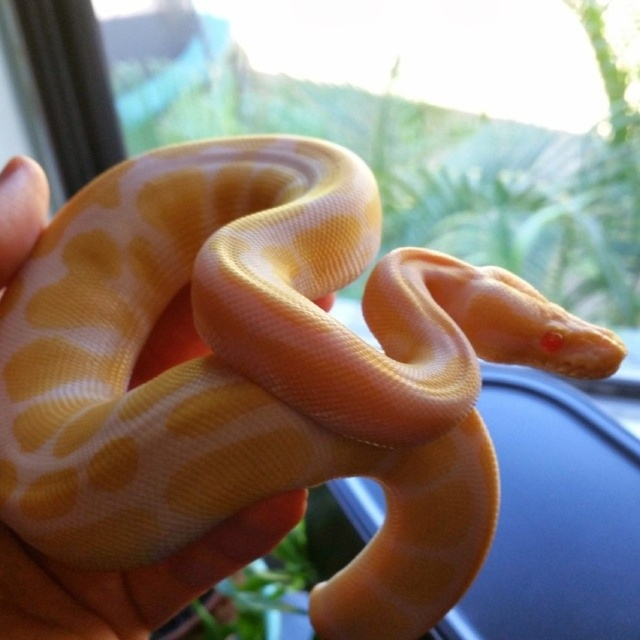Snake: (0, 131, 629, 639)
